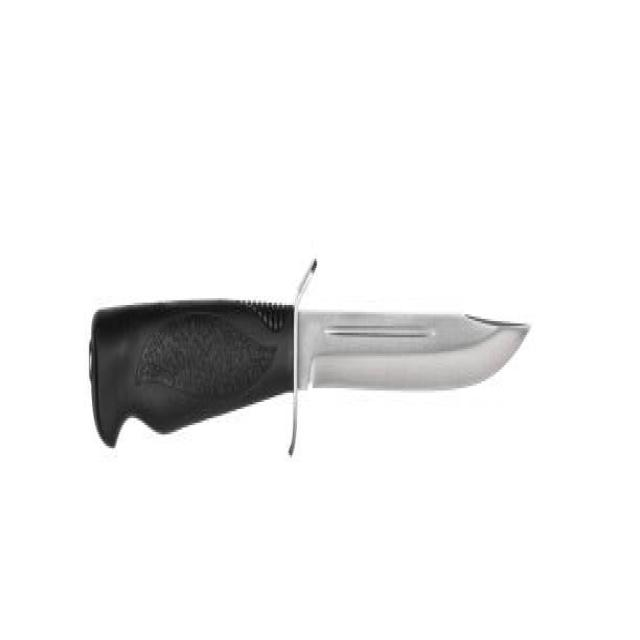knife: (82, 252, 538, 468)
